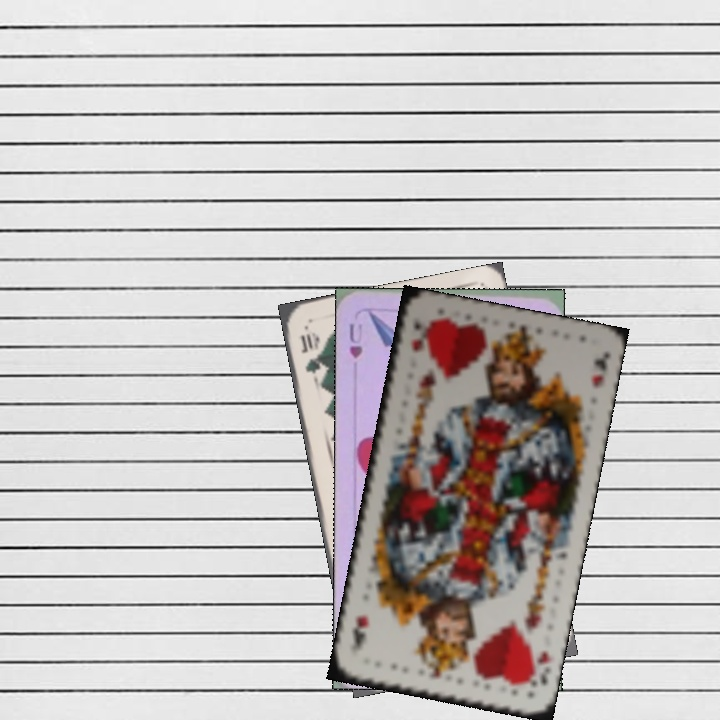G10: (297, 328, 324, 377)
HK: (523, 646, 555, 690), (407, 319, 427, 355)
HU: (345, 319, 365, 360)
